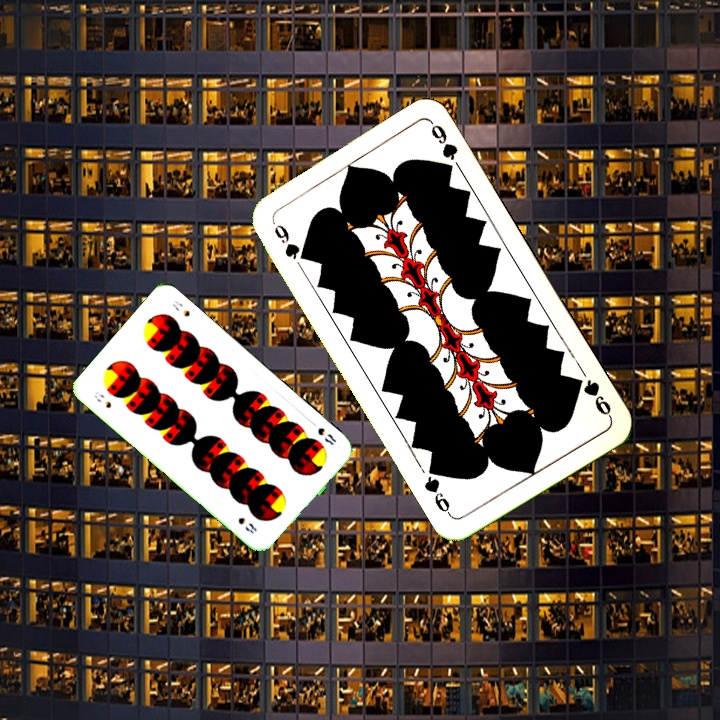G9: (569, 373, 614, 421), (267, 216, 310, 264)
S8: (313, 423, 339, 448), (90, 387, 114, 411)
